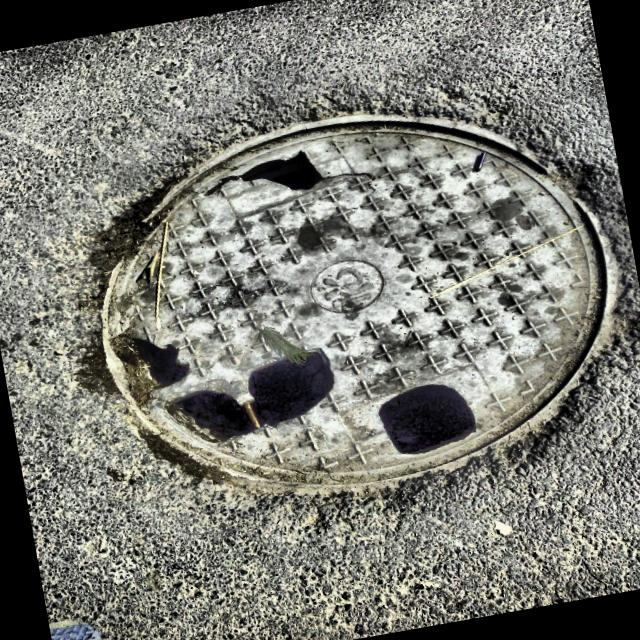open_manhole: (101, 115, 618, 491)
